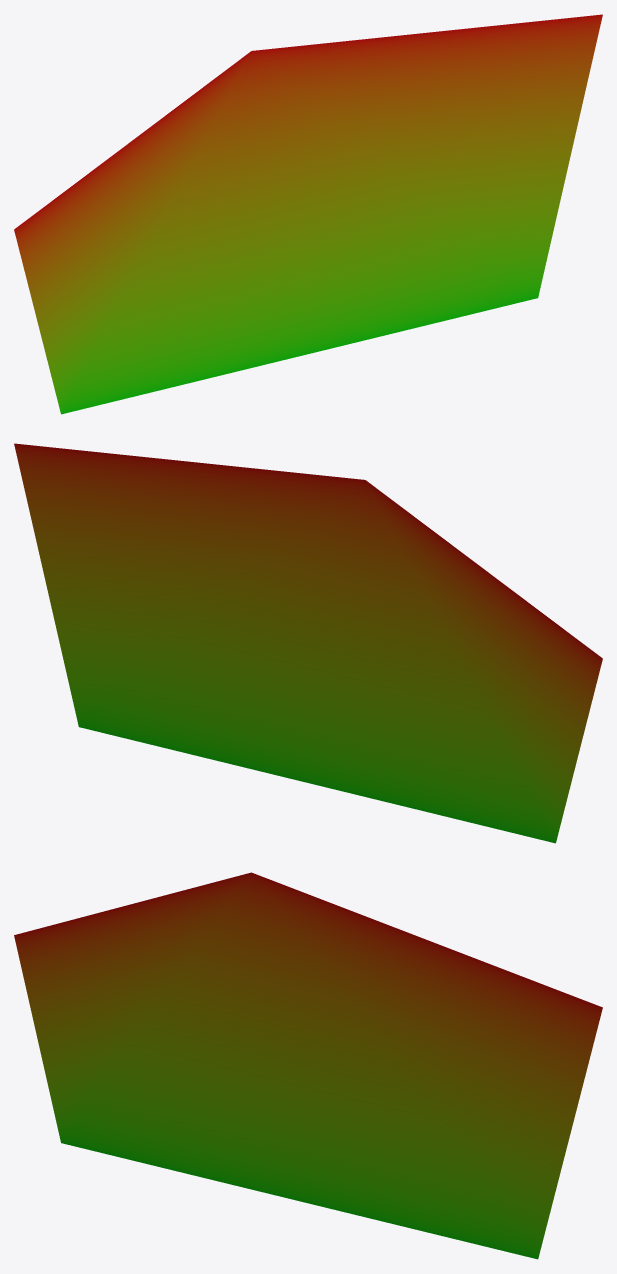
Rendered from Tundra Grass_LOD7_Var13_wk2oaeyqx.fbx.
3 views of the same model, one above another, from view 1: azimuth 30°, elevation 25°; view 2: azimuth 150°, elevation 25°; view 3: azimuth 330°, elevation 25° (orthographic).
Visible parts, largest first — view 1: _4a25_Var13_LOD7; view 2: _4a25_Var13_LOD7; view 3: _4a25_Var13_LOD7.
Boxes of the visible parts, x1,y1,x2,y2 form: _4a25_Var13_LOD7: (14, 14, 602, 414); _4a25_Var13_LOD7: (14, 443, 602, 843); _4a25_Var13_LOD7: (14, 872, 602, 1259).
Bounding box in the file's own units: 57.5 × 29.58 × 1.29e-06.
